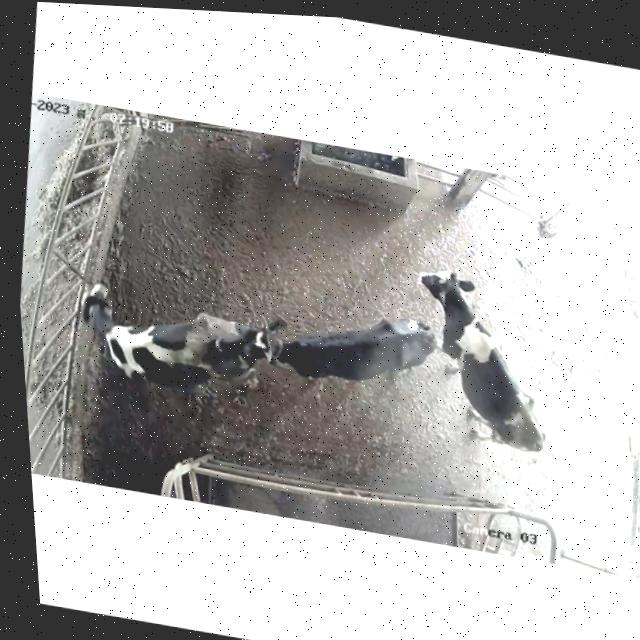propping: (193, 307, 308, 384)
